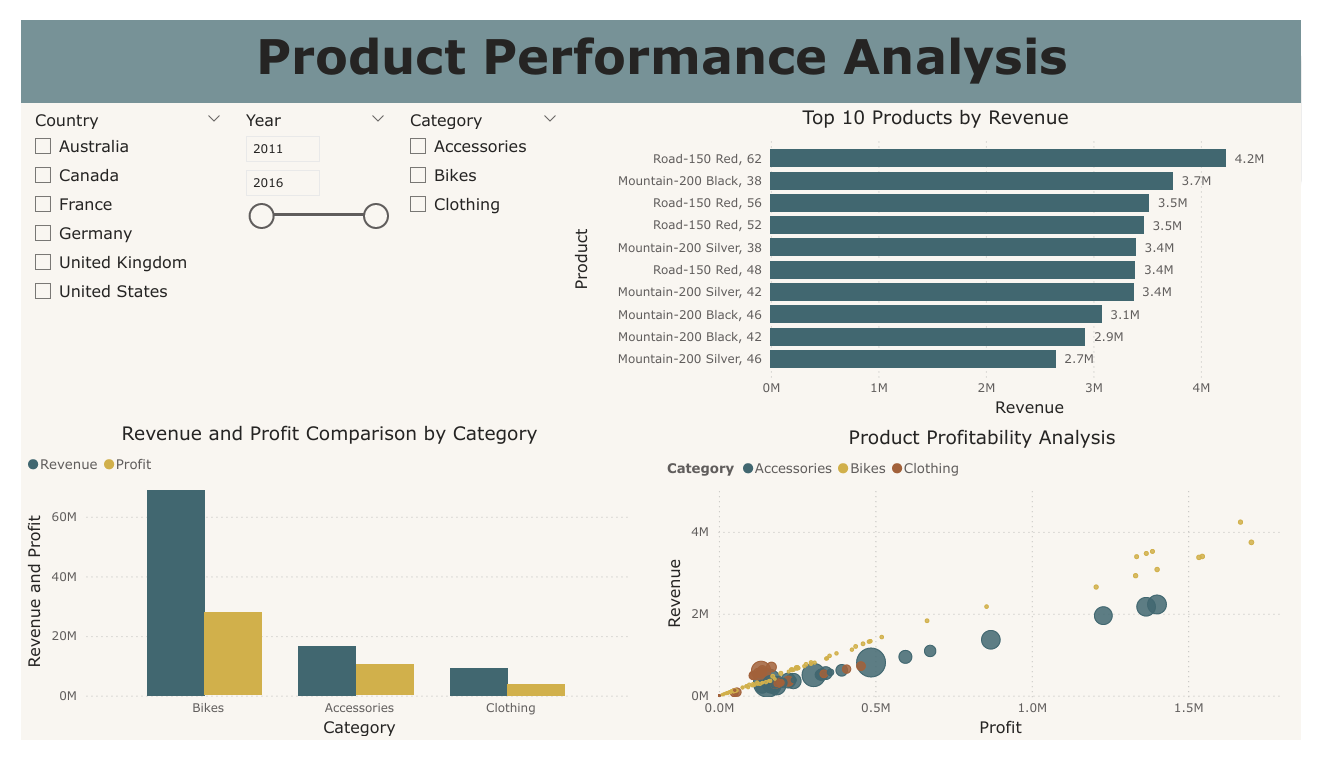

What the dashboard file says about the page in this screenshot:
{"tool":"powerbi","page":{"name":"Product Analysis","canvas":[1280,720],"ordinal":1},"visuals":[{"type":"textbox","box":[0,0,1280,83.2],"z":0},{"type":"clusteredBarChart","title":"Top 10 Products by Revenue","fields":{"Category":["Sales_Cleaned.Product"],"Y":["Sum(Sales_Cleaned.Revenue)"]},"box":[546.6,83.6,733.4,316.1],"z":1000},{"type":"clusteredColumnChart","title":"Revenue and Profit Comparison by Category","fields":{"Category":["Sales_Cleaned.Product_Category"],"Y":["Sum(Sales_Cleaned.Revenue)","Sum(Sales_Cleaned.Profit)"]},"box":[0,399.8,614.7,320],"z":2000},{"type":"scatterChart","title":"Product Profitability Analysis","fields":{"X":["Sum(Sales_Cleaned.Profit)"],"Y":["Sum(Sales_Cleaned.Revenue)"],"Size":["Sum(Sales_Cleaned.Order_Quantity)"],"Series":["Sales_Cleaned.Product_Category"],"Category":["Sales_Cleaned.Product"]},"box":[640,403.6,640,316.1],"z":3000},{"type":"slicer","fields":{"Values":["Sales_Cleaned.Country"]},"box":[0,83.6,211.1,217.9],"z":4000},{"type":"slicer","fields":{"Values":["Sales_Cleaned.Year"]},"box":[211.1,83.6,164.4,217.9],"z":5000},{"type":"slicer","fields":{"Values":["Sales_Cleaned.Product_Category"]},"box":[375.4,83.6,171.2,217.9],"z":6000}]}

Visuals, with their boxes in screenshot pixels (x1, y1, x2, y2), scaled from the page's 1280x720 canvas onto the 1322x764 screenshot:
textbox: {"x1": 0, "y1": 0, "x2": 1321, "y2": 88}
"Top 10 Products by Revenue" clusteredBarChart: {"x1": 565, "y1": 89, "x2": 1321, "y2": 424}
"Revenue and Profit Comparison by Category" clusteredColumnChart: {"x1": 0, "y1": 424, "x2": 635, "y2": 763}
"Product Profitability Analysis" scatterChart: {"x1": 661, "y1": 428, "x2": 1321, "y2": 763}
slicer - Sales_Cleaned.Country: {"x1": 0, "y1": 89, "x2": 218, "y2": 320}
slicer - Sales_Cleaned.Year: {"x1": 218, "y1": 89, "x2": 388, "y2": 320}
slicer - Sales_Cleaned.Product_Category: {"x1": 388, "y1": 89, "x2": 565, "y2": 320}
